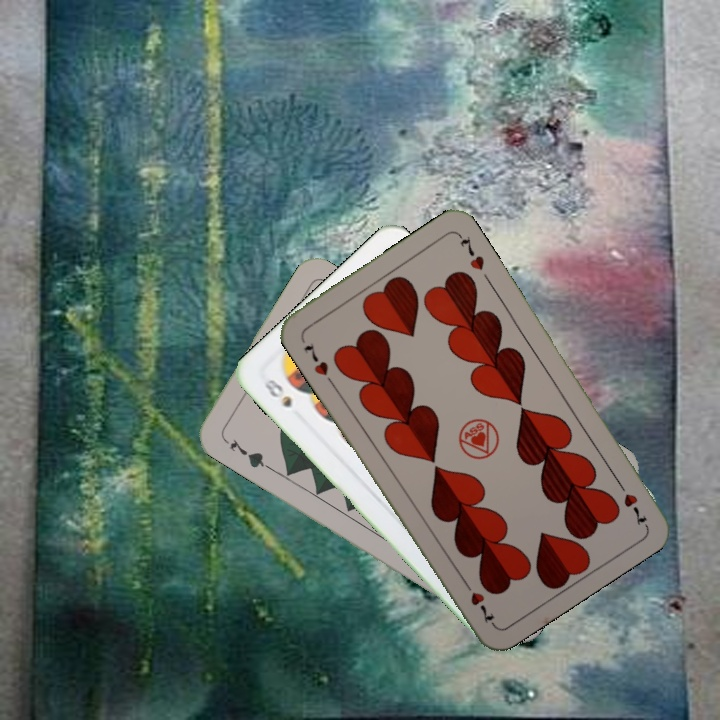G7: (226, 435, 272, 471)
H7: (612, 475, 650, 528), (299, 338, 331, 378)
S8: (259, 375, 295, 411)
